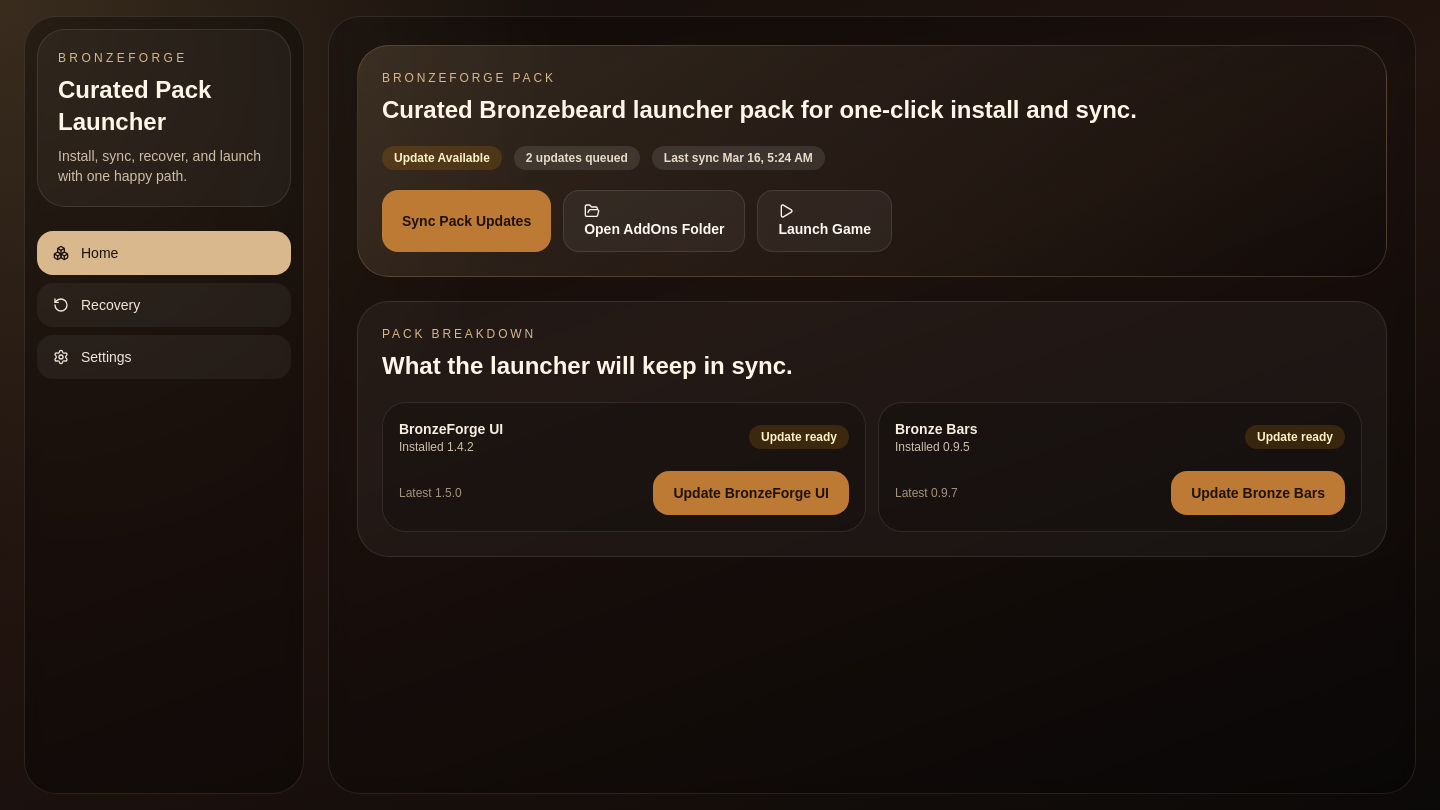
clicking Sync Pack Updates transitions UI to Up To Date
# Wait for initial state to load — update available
What coordinates should you click on to do the following:
click the button "Sync Pack Updates"
I would click on:
 (467, 221)
Its box is [382,190,551,252].
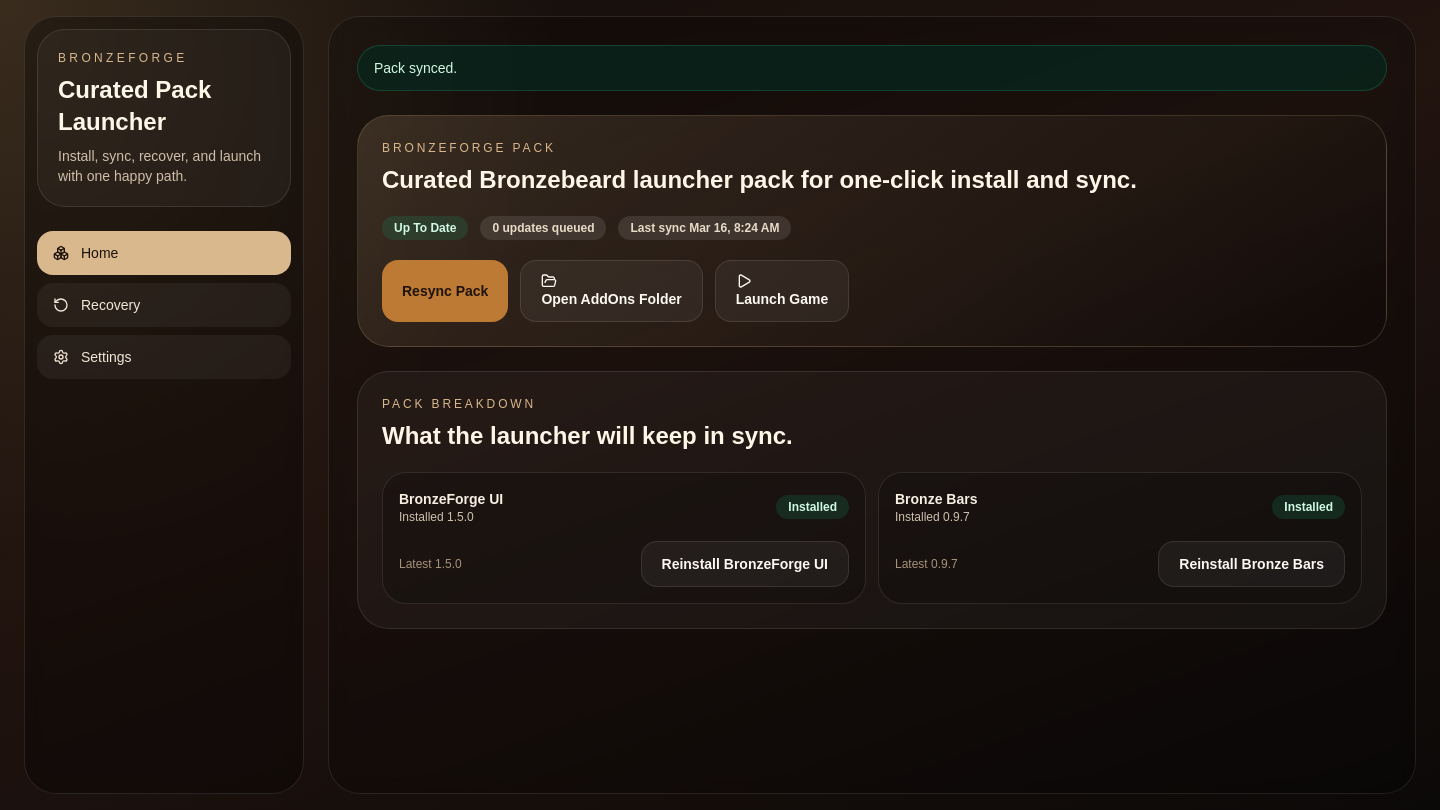
Check: the text "Up To Date" is shown, box [382,216,468,240]
Check: the button "Resync Pack" is shown, box [382,260,508,322]
